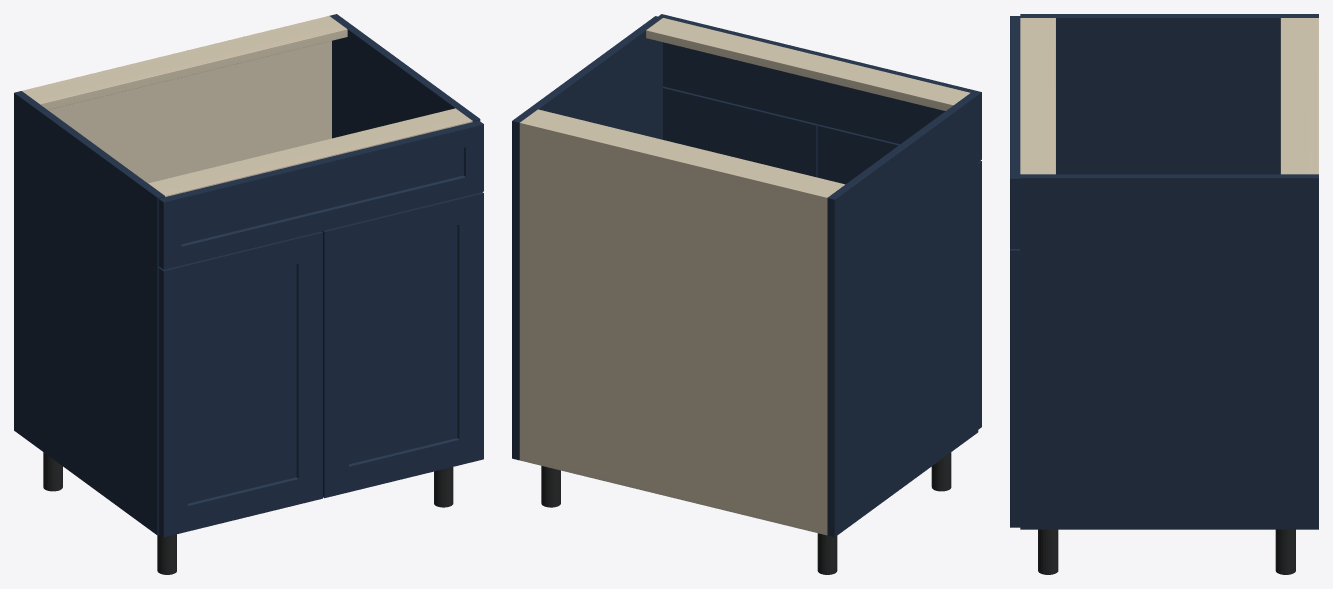
Rendered from oppein-ply-bss-sb30.glb.
3 views of the same model, side by side, from view 1: azimuth 30°, elevation 25°; view 2: azimuth 150°, elevation 25°; view 3: azimuth 270°, elevation 25° (orthographic). The views are drawn at different scales.
Parts seen in each view (by area): view 1: Cabinet side, Door, Door.001, Cabinet back, False drawer front, Cabinet side.001, Top support rail, Top support rail.001, Adjustable foot.001, Adjustable foot.003, Adjustable foot; view 2: Cabinet back, Cabinet side, False drawer front, Cabinet side.001, Door.001, Top support rail.001, Top support rail, Door, Adjustable foot, Adjustable foot.002, Cabinet bottom, Adjustable foot.001; view 3: Cabinet side.001, Cabinet side, Top support rail.001, Top support rail, Door.001, False drawer front, Adjustable foot.003, Adjustable foot.002, Cabinet back.
Boxes of the visible parts, x1=… form: Cabinet side: x1=14, y1=91, x2=164, y2=535; Door: x1=158, y1=231, x2=322, y2=537; Door.001: x1=322, y1=192, x2=483, y2=498; Cabinet back: x1=22, y1=16, x2=331, y2=183; False drawer front: x1=158, y1=120, x2=483, y2=269; Cabinet side.001: x1=329, y1=14, x2=480, y2=138; Top support rail: x1=23, y1=17, x2=347, y2=109; Top support rail.001: x1=148, y1=108, x2=472, y2=196; Adjustable foot.001: x1=157, y1=534, x2=176, y2=574; Adjustable foot.003: x1=434, y1=467, x2=453, y2=507; Adjustable foot: x1=43, y1=452, x2=62, y2=491; Cabinet back: x1=519, y1=120, x2=829, y2=534; Cabinet side: x1=827, y1=93, x2=978, y2=537; False drawer front: x1=658, y1=14, x2=981, y2=161; Cabinet side.001: x1=512, y1=16, x2=662, y2=460; Door.001: x1=663, y1=86, x2=818, y2=177; Top support rail.001: x1=646, y1=18, x2=969, y2=110; Top support rail: x1=523, y1=109, x2=844, y2=195; Door: x1=817, y1=124, x2=981, y2=429; Adjustable foot: x1=817, y1=533, x2=837, y2=574; Adjustable foot.002: x1=541, y1=466, x2=560, y2=507; Cabinet bottom: x1=519, y1=456, x2=826, y2=535; Adjustable foot.001: x1=931, y1=452, x2=951, y2=491; Cabinet side.001: x1=1020, y1=174, x2=1318, y2=529; Cabinet side: x1=1020, y1=14, x2=1318, y2=174; Top support rail.001: x1=1020, y1=18, x2=1055, y2=174; Top support rail: x1=1280, y1=18, x2=1315, y2=174; Door.001: x1=1010, y1=249, x2=1020, y2=527; False drawer front: x1=1010, y1=16, x2=1020, y2=248; Adjustable foot.003: x1=1038, y1=529, x2=1058, y2=574; Adjustable foot.002: x1=1275, y1=529, x2=1295, y2=574; Cabinet back: x1=1313, y1=18, x2=1318, y2=174.
Size of the model in its own units: 0.762 by 0.8763 by 0.6064.
